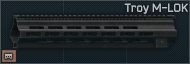HK 416A5 TROY Industries M-LOK 13 inch handguard: (0, 0, 190, 64)
